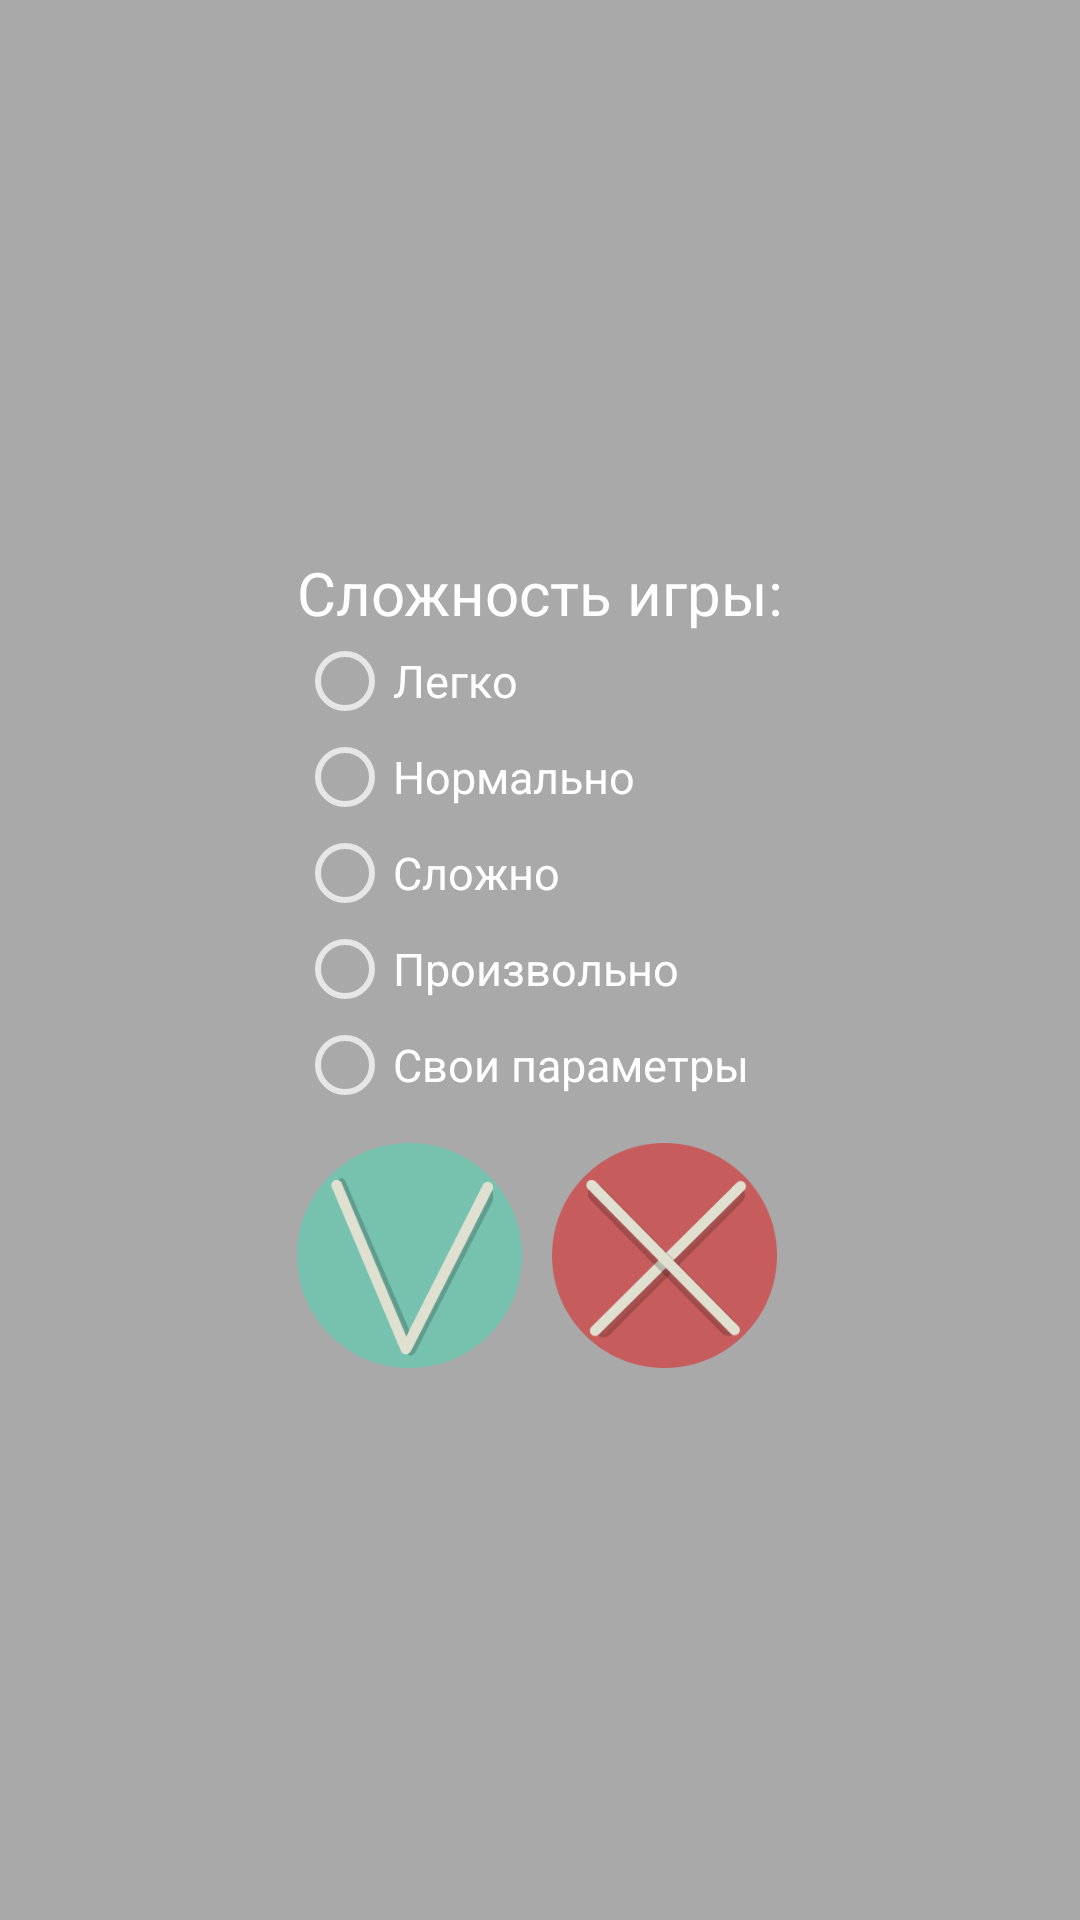

Where to tap for icons on this 1080px×1920px app screen, as (x=x, y=y):
yes: (x=409, y=1255)
